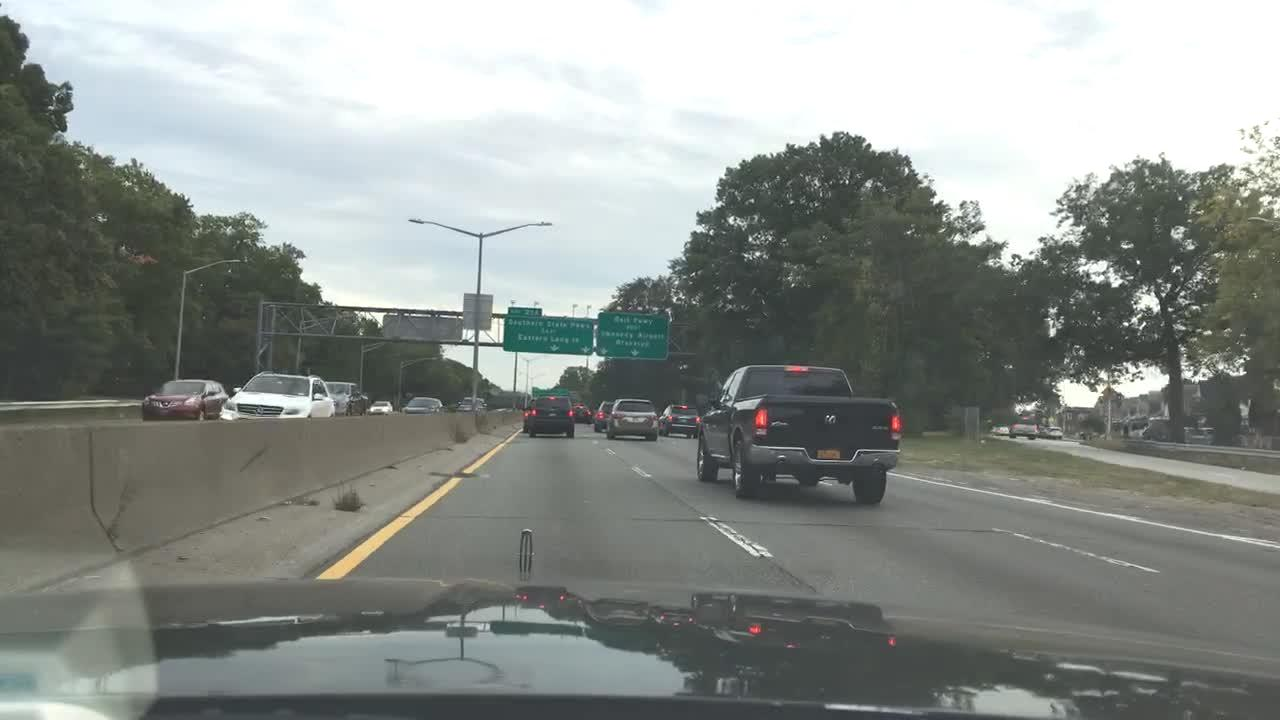ram: (821, 410, 840, 428)
